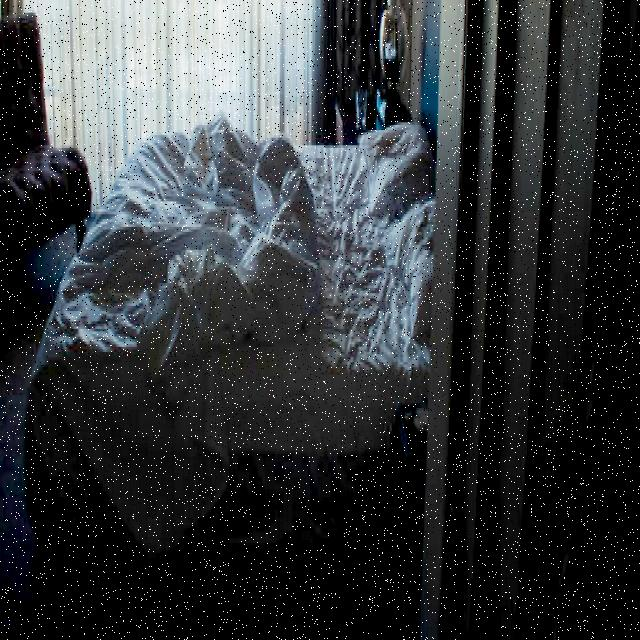bed: (48, 76, 443, 466)
